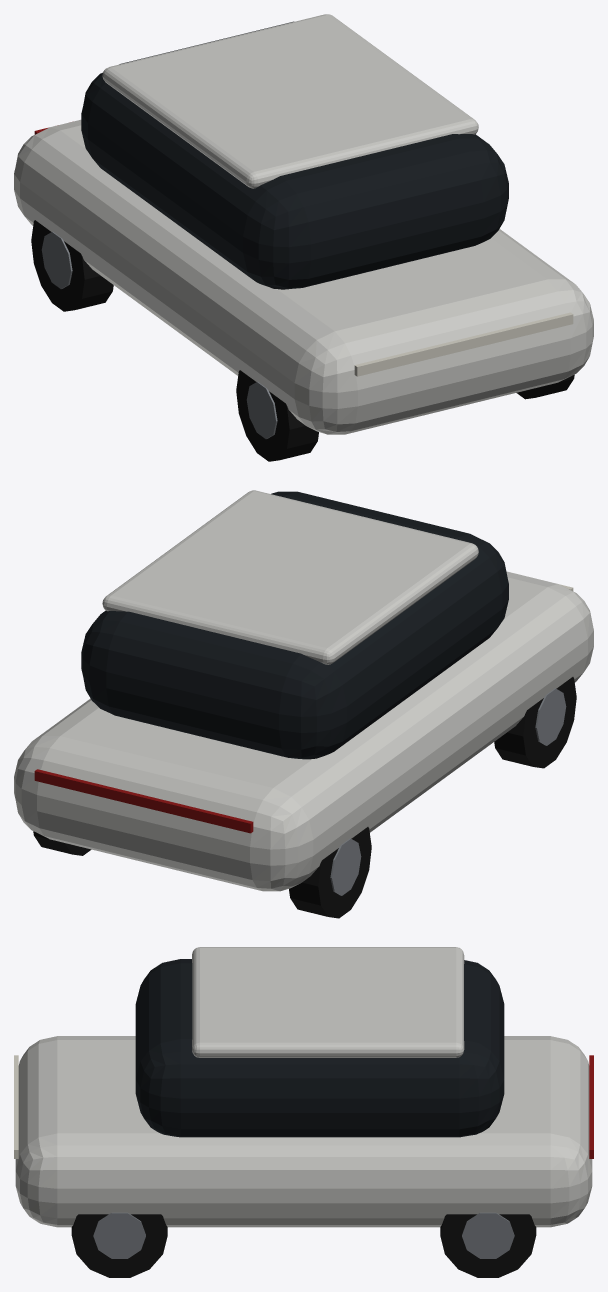
Rendered from pod.glb.
3 views of the same model, one above another, from view 1: azimuth 30°, elevation 25°; view 2: azimuth 150°, elevation 25°; view 3: azimuth 270°, elevation 25° (orthographic). The views are drawn at different scales.
Visible parts, largest first — view 1: pod; view 2: pod; view 3: pod.
Boxes of the visible parts, x1=… form: pod: x1=14, y1=14, x2=593, y2=461; pod: x1=14, y1=490, x2=593, y2=918; pod: x1=14, y1=947, x2=593, y2=1277.
Bounding box in the file's own units: 1.9 × 1.51 × 3.62.
